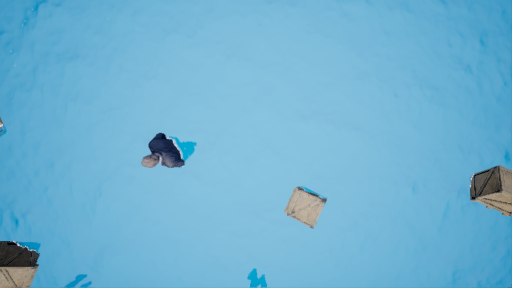person: (135, 132, 204, 174)
